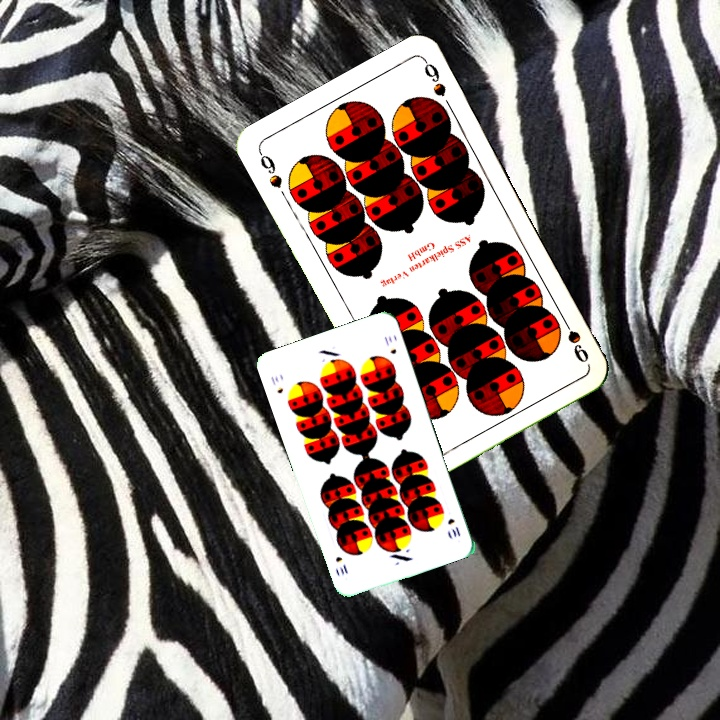S10: (444, 514, 463, 540), (267, 372, 286, 396)
S9: (557, 311, 592, 365), (254, 147, 285, 191)
